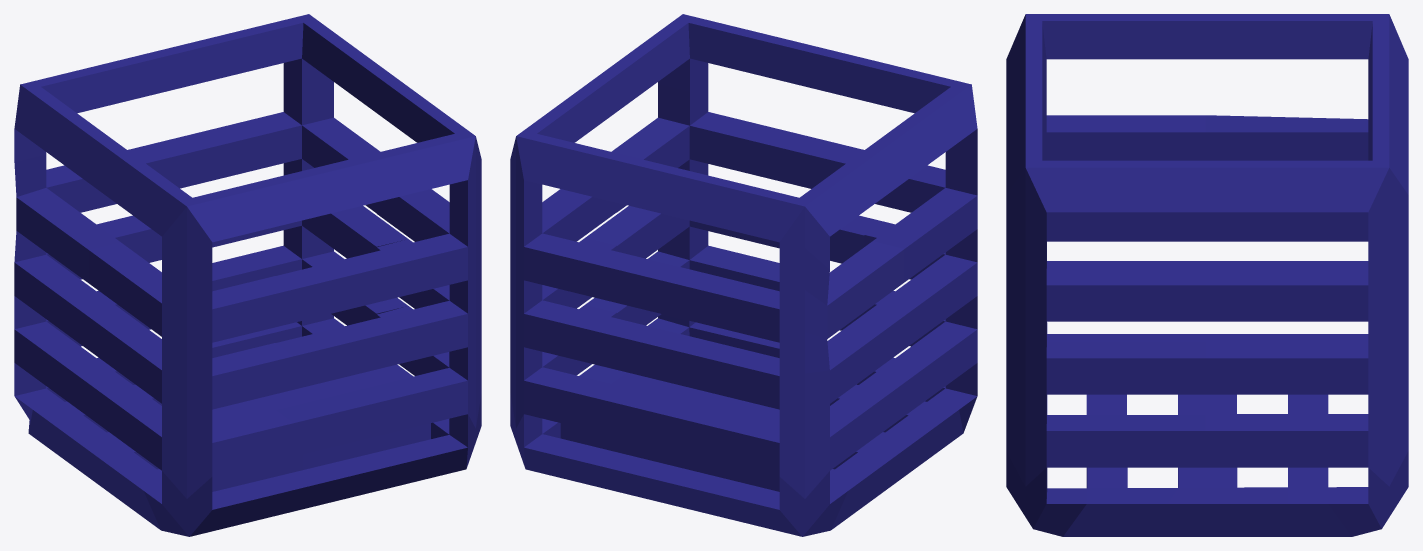
Rendered from pannier.glb.
3 renders of one model, left to right at view 1: azimuth 30°, elevation 25°; view 2: azimuth 150°, elevation 25°; view 3: azimuth 270°, elevation 25°, orthographic. The views are drawn at different scales.
Parts seen in each view (by area): view 1: Cube.001; view 2: Cube.001; view 3: Cube.001.
Part boxes in pixels (<box>): Cube.001: <box>14,14,481,536</box>; Cube.001: <box>510,14,977,536</box>; Cube.001: <box>1006,14,1408,536</box>.
Size of the model in its own units: 1.23 by 1.23 by 1.23.
